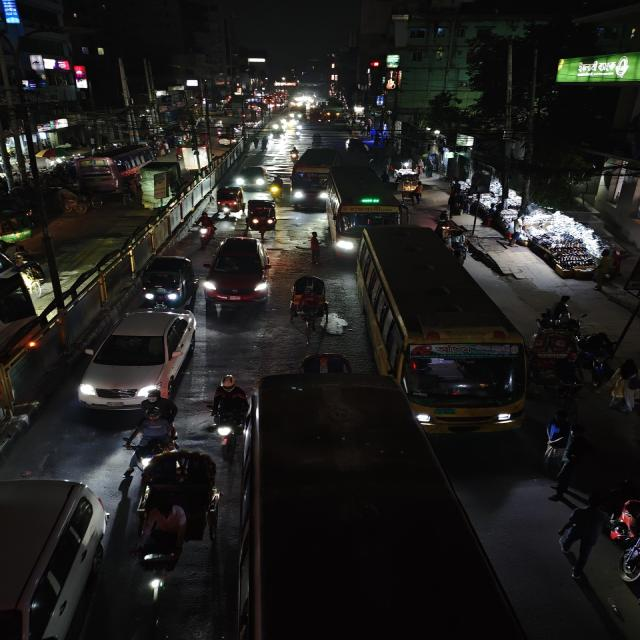bus: (232, 373, 520, 640), (355, 227, 527, 433), (323, 163, 405, 253), (76, 143, 152, 191), (288, 146, 338, 209)
car: (0, 476, 109, 640), (1, 477, 109, 640), (77, 305, 200, 411), (202, 234, 273, 310), (233, 164, 272, 190)
cng: (138, 254, 194, 308), (246, 198, 279, 235), (213, 184, 244, 218)
motorcycle: (202, 370, 248, 444), (124, 398, 178, 450), (190, 210, 218, 247), (268, 176, 284, 201)
pedestrian: (553, 502, 604, 587), (539, 407, 581, 475), (546, 436, 586, 503), (608, 355, 640, 414), (590, 248, 624, 292), (548, 294, 578, 330)
rickshaw: (128, 445, 220, 621), (287, 271, 336, 336), (530, 326, 573, 374), (394, 171, 425, 204)
truck: (130, 163, 186, 211)
